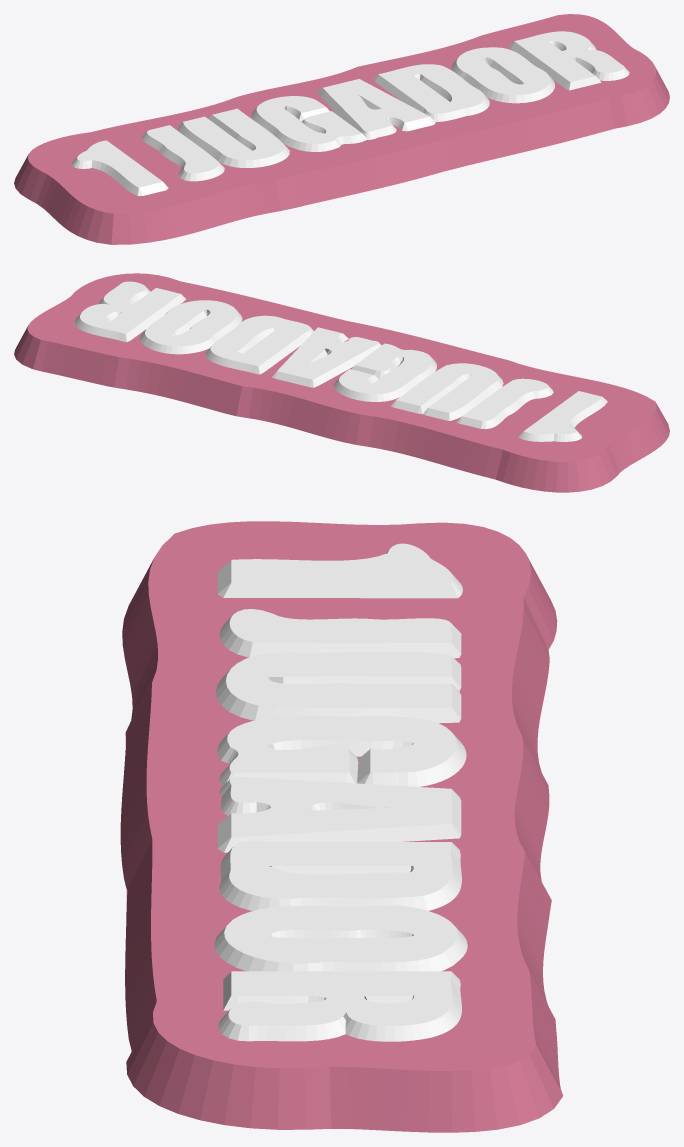
The picture shows the model from 3 angles, top to bottom: view 1: azimuth 30°, elevation 25°; view 2: azimuth 150°, elevation 25°; view 3: azimuth 270°, elevation 25°; orthographic projection. The views are drawn at different scales.
Parts seen in each view (by area): view 1: 1p; view 2: 1p; view 3: 1p.
Boxes of the visible parts, x1=… form: 1p: x1=14, y1=14, x2=669, y2=244; 1p: x1=14, y1=273, x2=669, y2=492; 1p: x1=120, y1=521, x2=563, y2=1132.
Bounding box in the file's own units: 1205 × 62.12 × 394.
